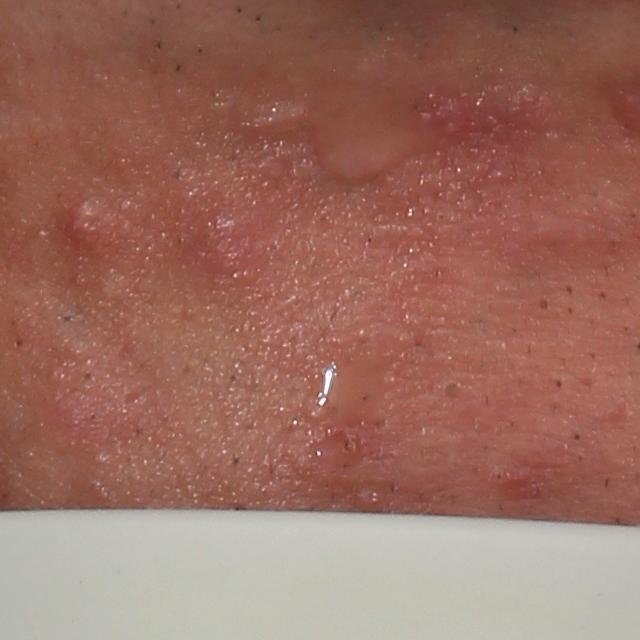comedo: (437, 376, 469, 407), (533, 295, 555, 315), (547, 373, 567, 391), (570, 432, 583, 446)
hypertrophic_scar: (243, 103, 313, 135)
papule: (191, 212, 258, 286), (487, 450, 563, 514), (62, 187, 111, 248)
